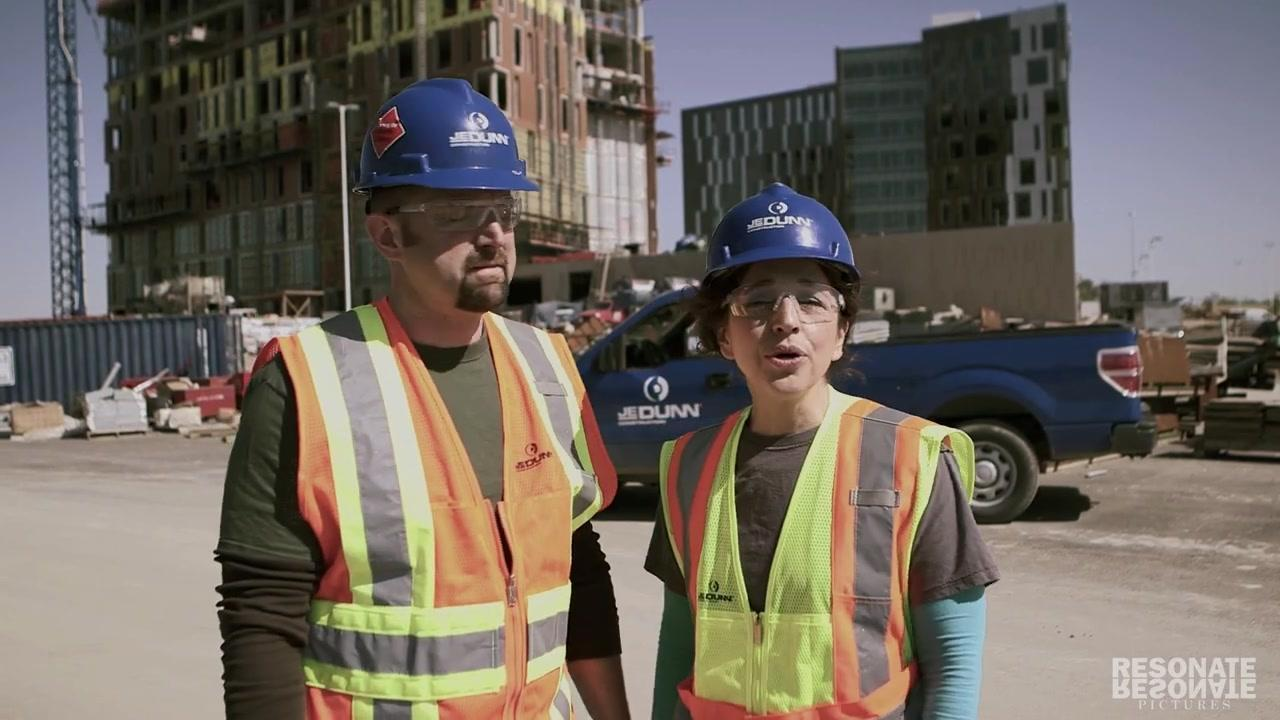vest: (252, 302, 623, 718), (656, 393, 976, 716)
